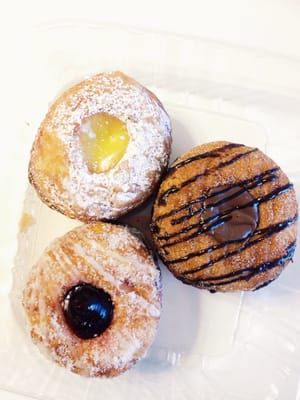soup: (150, 141, 299, 294)
